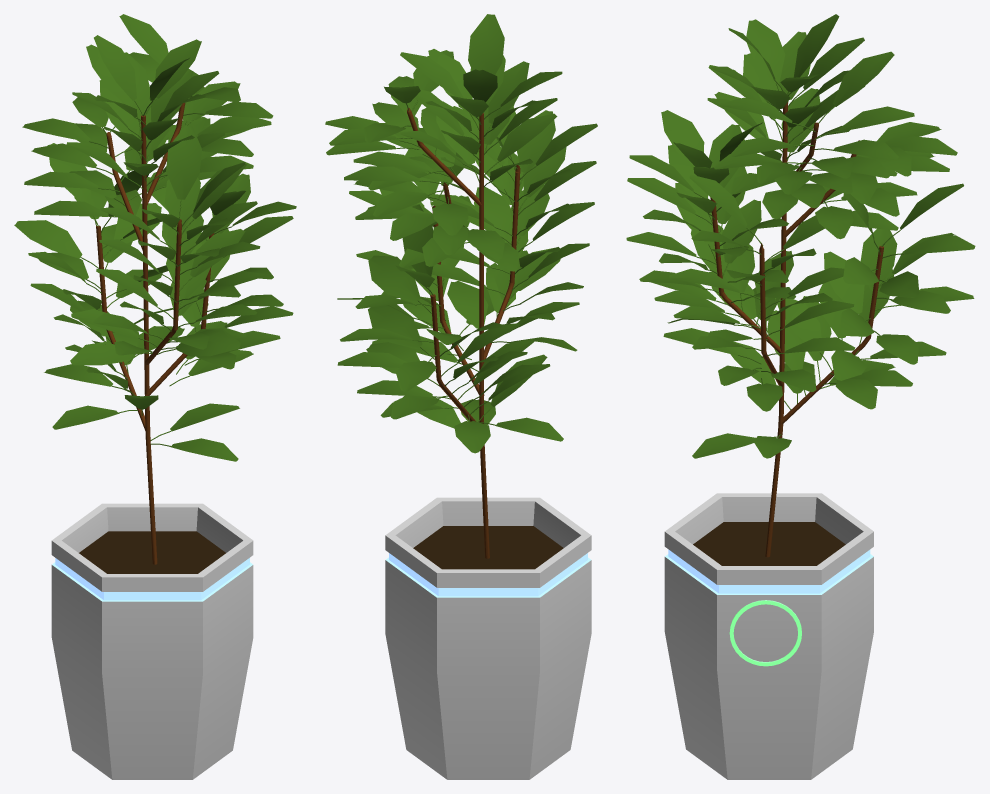
File: Plant.fbx
The picture shows the model from 3 angles, left to right: view 1: azimuth 30°, elevation 25°; view 2: azimuth 150°, elevation 25°; view 3: azimuth 270°, elevation 25°; orthographic projection. The views are drawn at different scales.
Visible parts, largest first — view 1: Plant, Pot; view 2: Plant, Pot; view 3: Plant, Pot.
Boxes of the visible parts, x1,y1,x2,y2 form: Plant: (14,14,296,564); Pot: (51,503,253,779); Plant: (325,14,597,558); Pot: (385,497,591,779); Plant: (626,14,975,557); Pot: (664,493,873,779).
Size of the model in its own units: 0.4432 by 1.42 by 0.6151.
